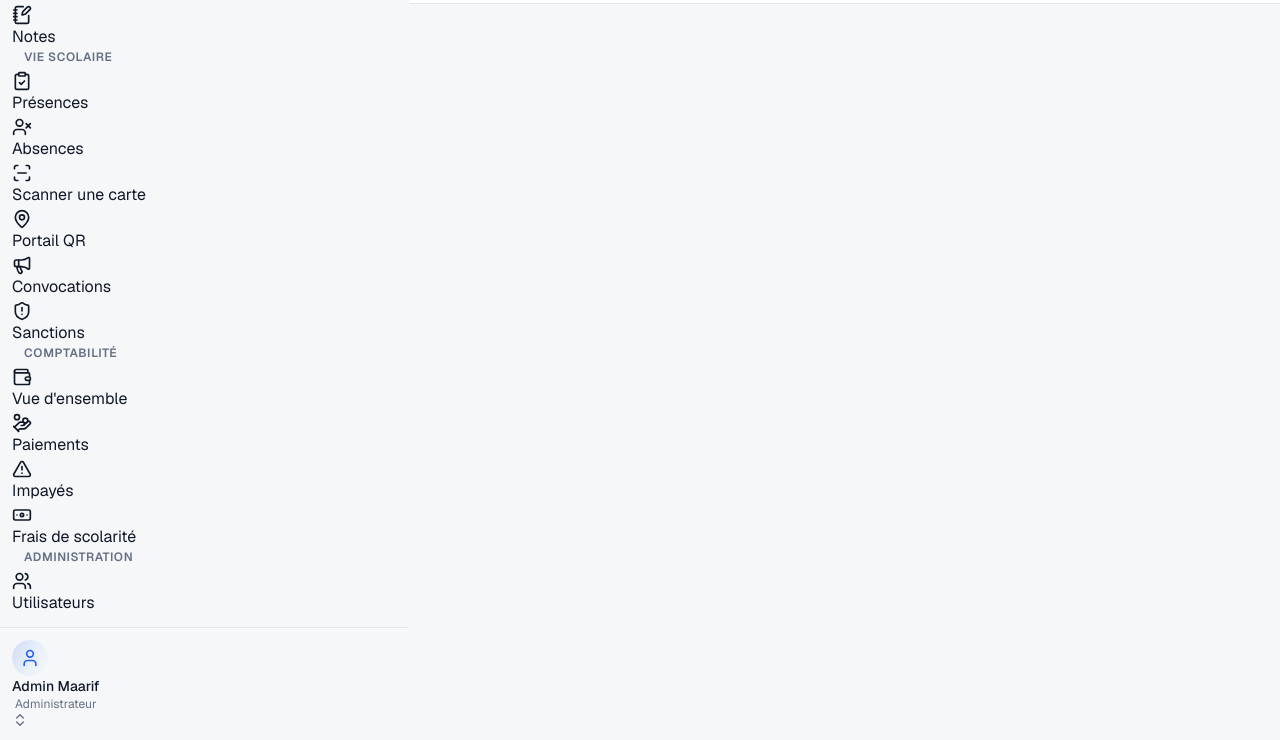
Test: AppShell › profile at the bottom of the sidebar › closes with Escape and gives the focus back to the profile
This screenshot has width=1280, height=740.
(page scrolled)
Click the button with aria-label "Menu du profil : Admin Maarif" at {"x": 56, "y": 684}, box [12, 640, 100, 728]
(page scrolled)
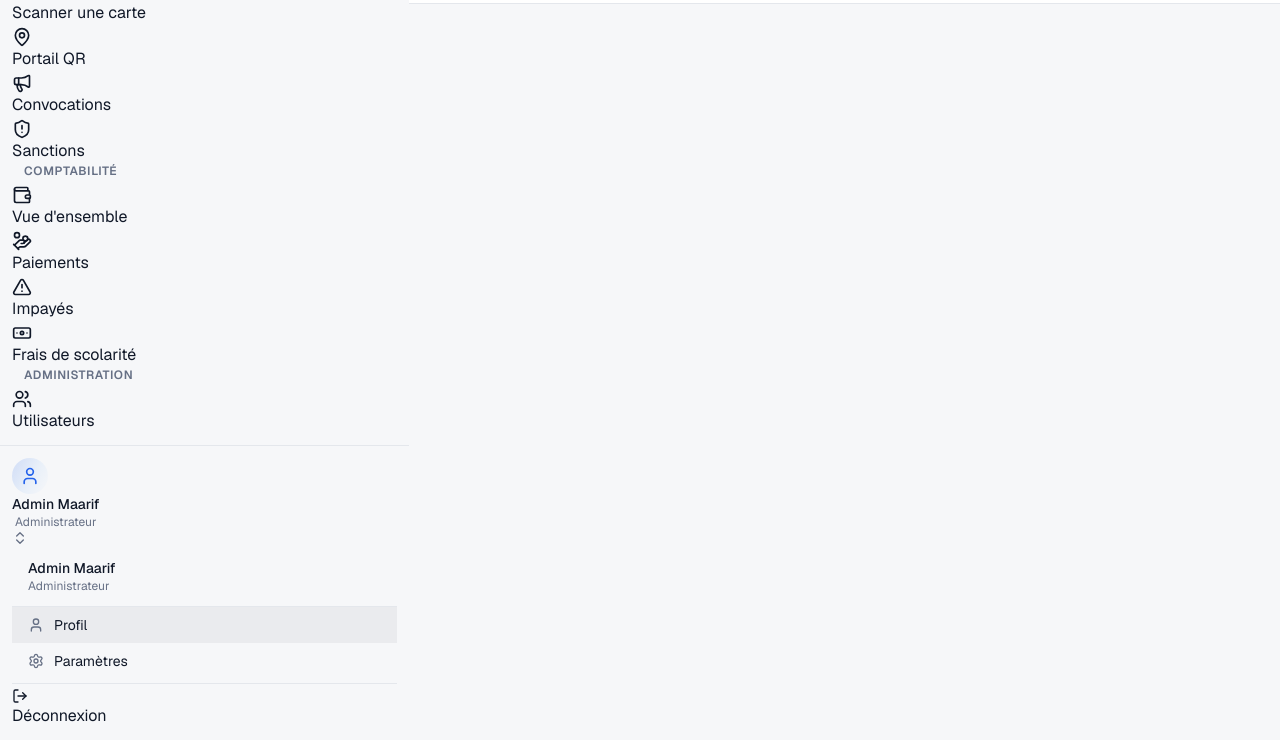
Press Escape
(page scrolled)
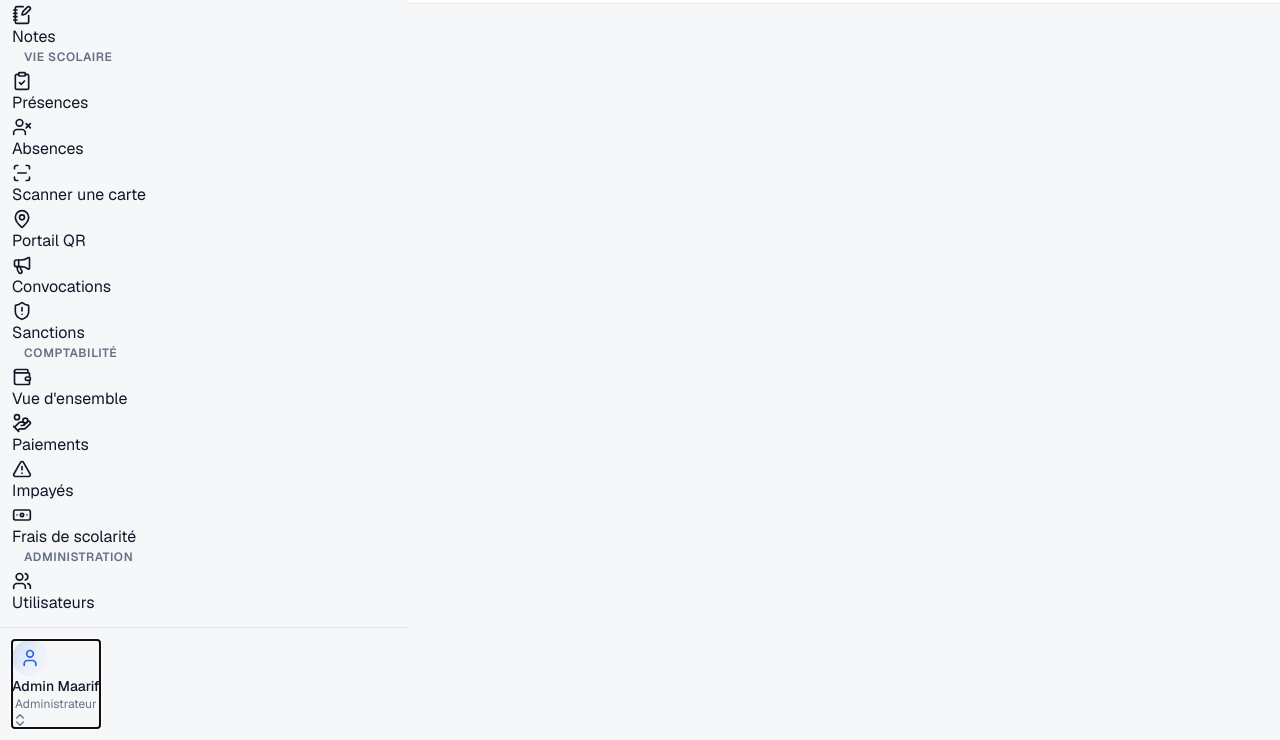
Expected: the menu is gone
